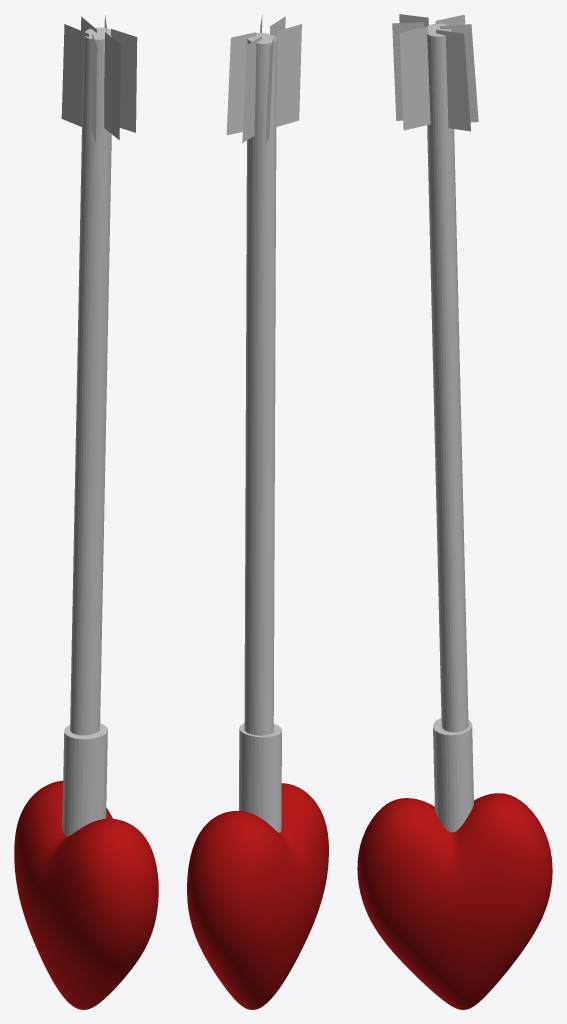
File: BBA.obj
3 views of the same model, side by side, from view 1: azimuth 30°, elevation 25°; view 2: azimuth 150°, elevation 25°; view 3: azimuth 270°, elevation 25° (orthographic). The views are drawn at different scales.
Visible parts, largest first — view 1: 12190_Heart_v1_L3.002, Cylinder.001, Cylinder.002, Plane.003, Plane.001, Plane, Plane.002; view 2: 12190_Heart_v1_L3.002, Cylinder.001, Cylinder.002, Plane.002, Plane.004, Plane.005, Plane.003; view 3: 12190_Heart_v1_L3.002, Cylinder.001, Cylinder.002, Plane.001, Plane.004, Plane.005, Plane.
Part boxes in pixels (<box>): 12190_Heart_v1_L3.002: <box>14,780,158,1009</box>; Cylinder.001: <box>70,27,111,735</box>; Cylinder.002: <box>62,723,107,836</box>; Plane.003: <box>61,24,88,126</box>; Plane.001: <box>111,29,137,132</box>; Plane: <box>104,32,120,139</box>; Plane.002: <box>91,34,97,142</box>; 12190_Heart_v1_L3.002: <box>187,783,328,1009</box>; Cylinder.001: <box>244,33,276,735</box>; Cylinder.002: <box>239,723,281,832</box>; Plane.002: <box>276,24,301,126</box>; Plane.004: <box>226,32,256,135</box>; Plane.005: <box>242,36,261,142</box>; Plane.003: <box>265,37,274,145</box>; 12190_Heart_v1_L3.002: <box>357,793,552,1009</box>; Cylinder.001: <box>427,23,468,732</box>; Cylinder.002: <box>433,718,473,832</box>; Plane.001: <box>399,26,430,130</box>; Plane.004: <box>436,29,470,131</box>; Plane.005: <box>440,24,478,122</box>; Plane: <box>392,22,423,120</box>.
Bounding box in the file's own units: 0.2517 × 2.49 × 0.4456.
